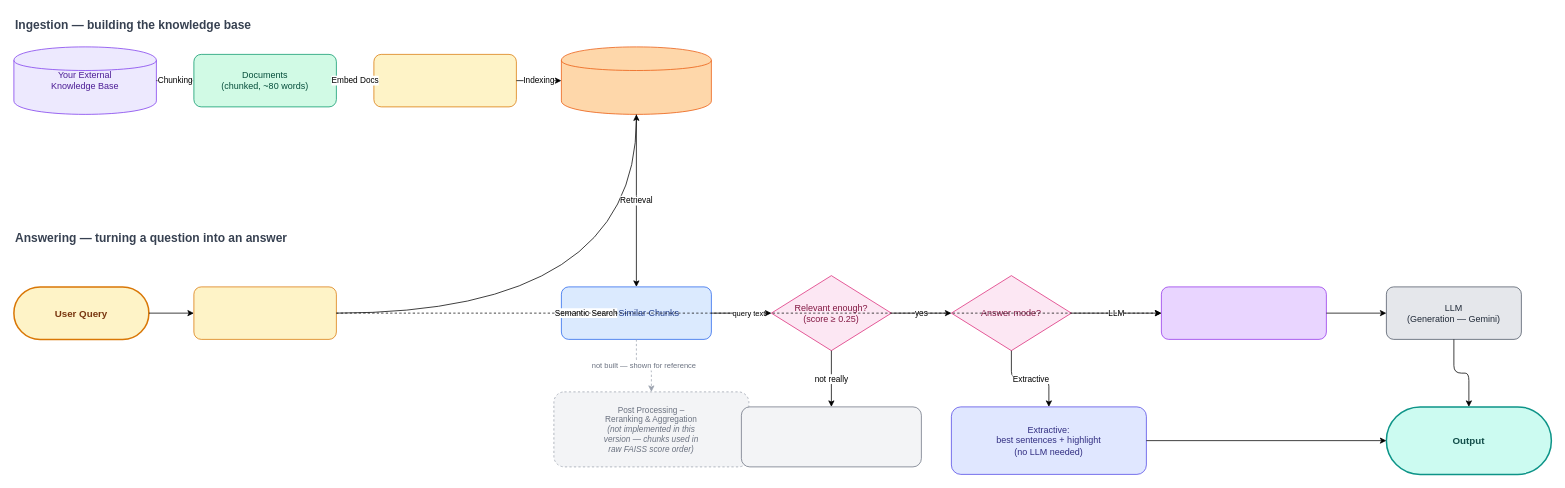
Image size: 1565x488. Some labels were removed from this diagram. Each missing label, with the centre of its shape:
"Embedding Model (all-MiniLM-L6-v2)" goes at (x=444, y=80).
"Embedding Model (embed query)" goes at (x=264, y=312).
"LLM Prompt (Augmentation: query + chunks)" goes at (x=1243, y=312).
"Nothing relevant found" goes at (x=831, y=436).
"Vector DB (FAISS Knowledge Base)" goes at (x=636, y=80).
